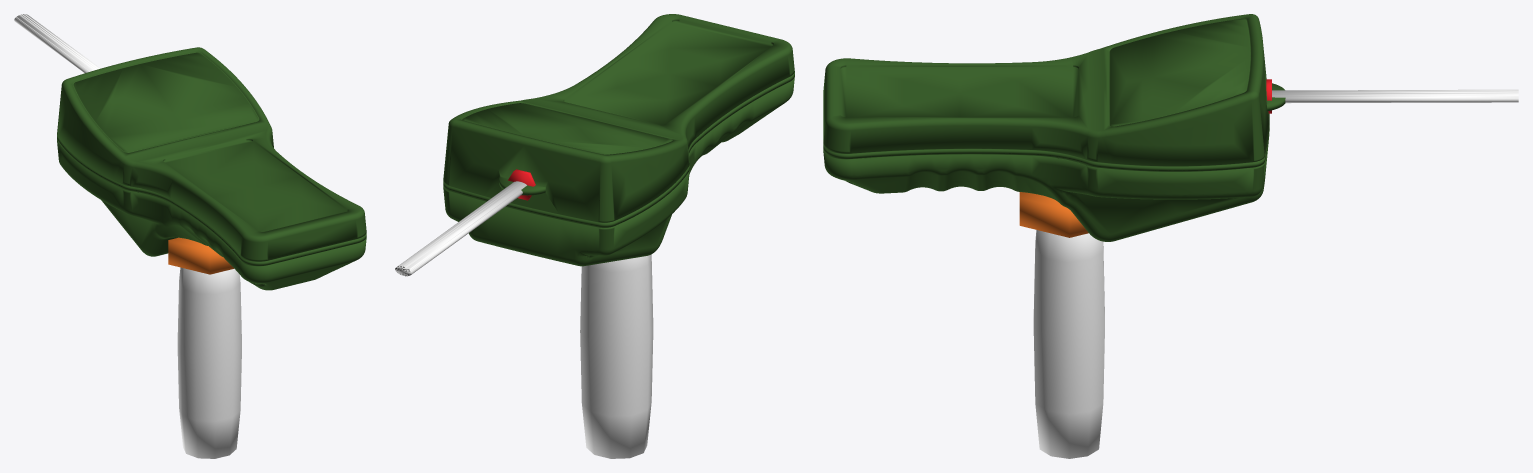
The model's file is Soldador.fbx.
3 views of the same model, side by side, from view 1: azimuth 30°, elevation 25°; view 2: azimuth 150°, elevation 25°; view 3: azimuth 270°, elevation 25° (orthographic). The views are drawn at different scales.
Visible parts, largest first — view 1: carcasa, mango, mangonaranja; view 2: carcasa, mango, Punta; view 3: carcasa, mango, mangonaranja.
Part boxes in pixels (box(x1,y1,x2,y2)): carcasa: box(57, 47, 366, 290); mango: box(14, 14, 241, 458); mangonaranja: box(168, 237, 233, 274); carcasa: box(443, 14, 794, 266); mango: box(395, 181, 653, 458); Punta: box(395, 169, 535, 276); carcasa: box(823, 14, 1285, 241); mango: box(1033, 89, 1518, 458); mangonaranja: box(1019, 192, 1088, 237).
Size of the model in its own units: 36.75 by 69.9 by 112.
